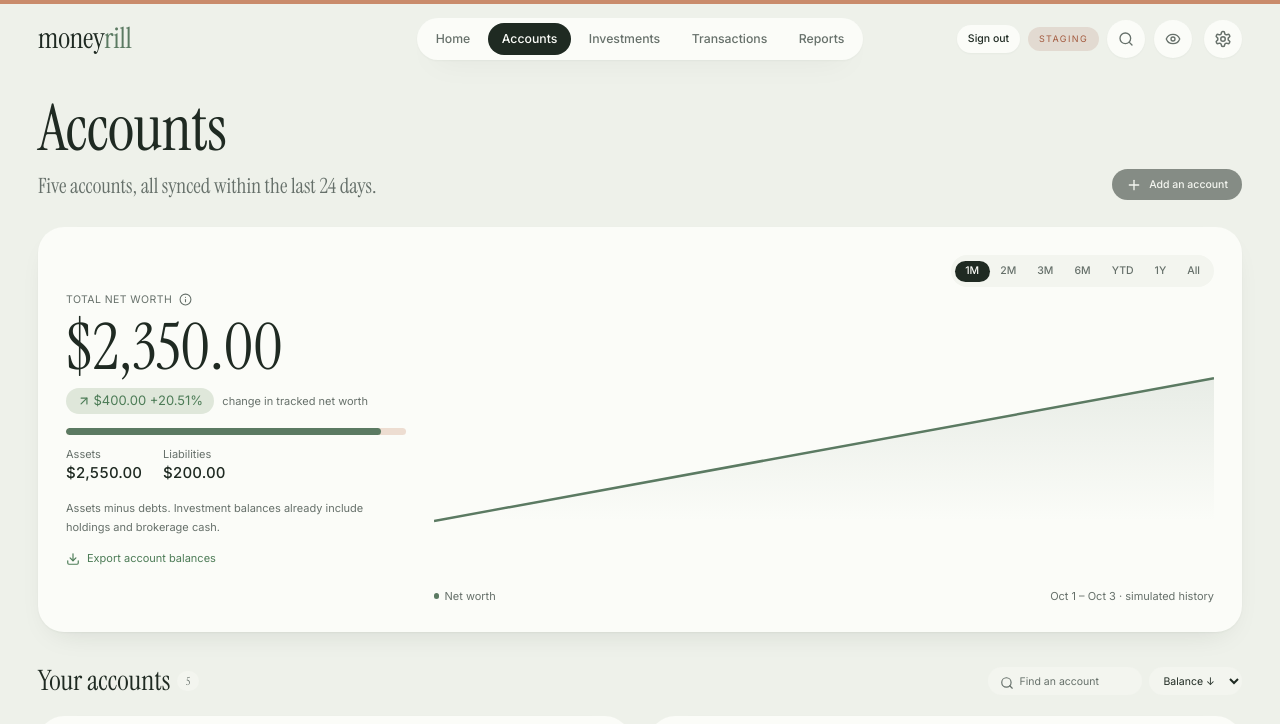
private mode › on Investments hides values, shares and the gain; keeps price changes and prices
Check: the text "TOTAL NET WORTH" is shown, box [66,293,192,306]
Click the button named "Private mode". click: (1173, 39)
box: [1154,20,1192,58]
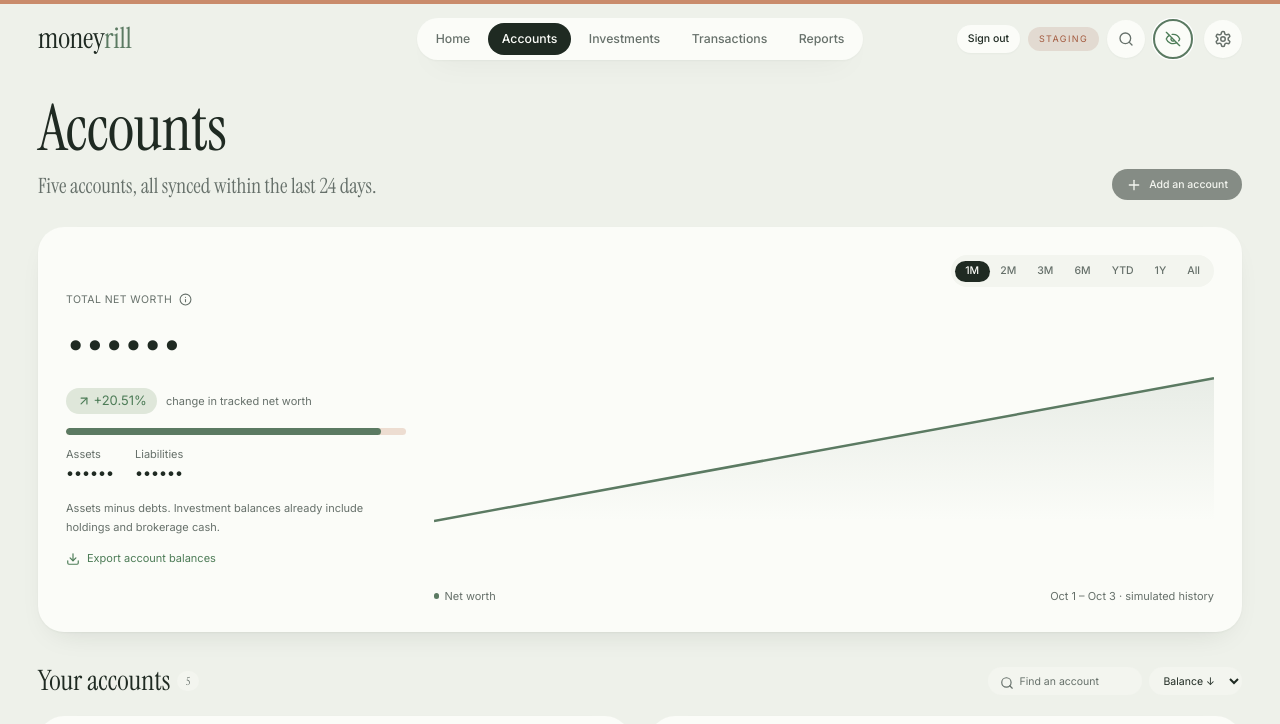
Click the link "Investments". click: (624, 38)
box: [589,31,660,46]
(page scrolled)
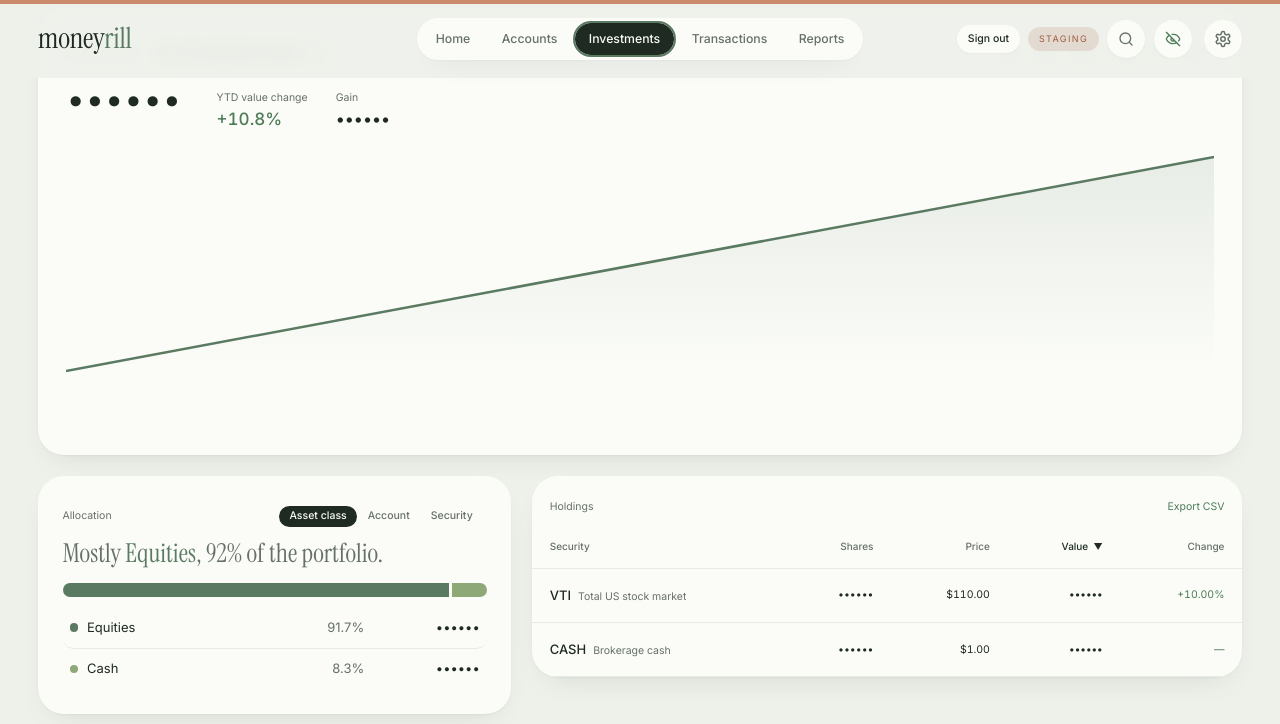
Check: the heading "Holdings" is shown, box [550,500,594,514]
Check: the text "$110.00" is shown, box [891,568,1007,623]
Check: the cell "+10.00%" is shown, box [1120,568,1242,623]
